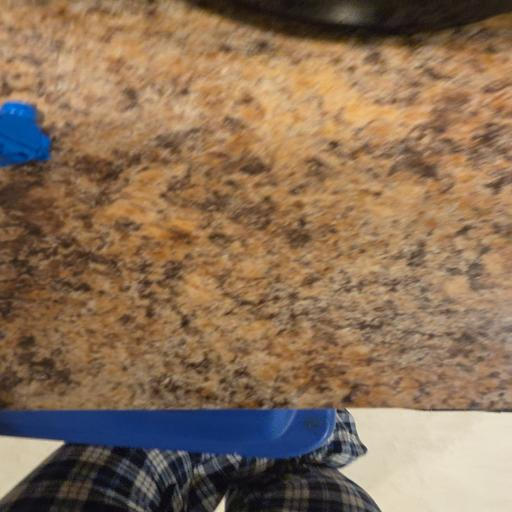Blue: (0, 102, 50, 166)
